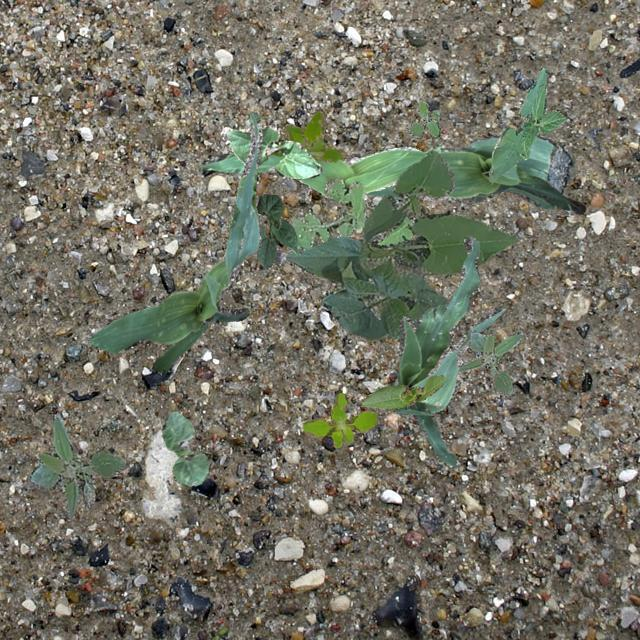crop: (87, 112, 260, 370), (284, 150, 518, 338), (394, 233, 504, 468), (362, 134, 584, 212), (198, 146, 440, 196), (488, 66, 564, 182), (220, 124, 320, 180), (160, 410, 208, 484), (256, 192, 300, 266), (360, 374, 446, 408)
weed: (28, 412, 128, 518), (288, 177, 412, 250), (302, 392, 378, 446), (458, 330, 520, 394), (272, 110, 344, 160), (404, 98, 439, 136)
